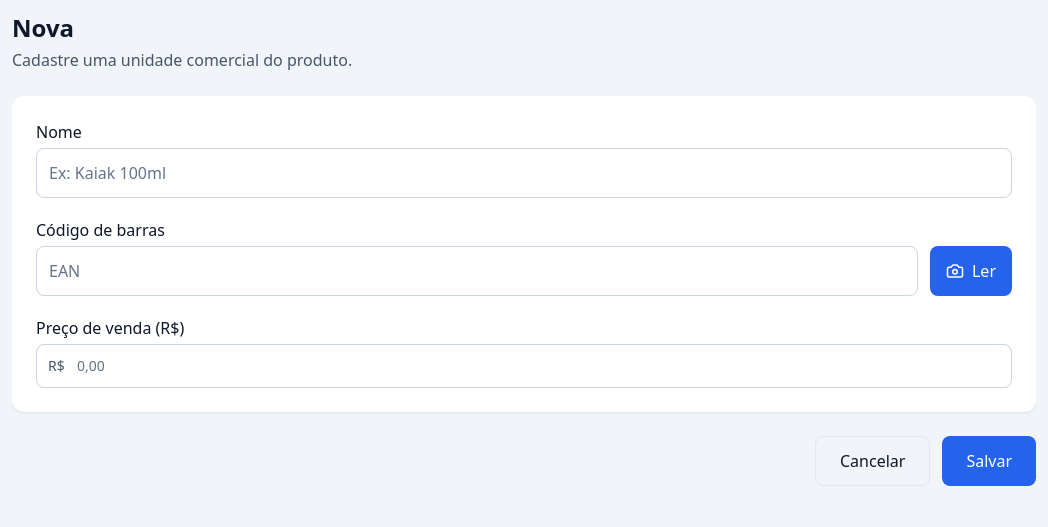
VariantForm › sem a permissão catalog.price (VENDEDOR) › criação: o preço é obrigatório
Type "Kaiak" into the field with placeholder "Ex: Kaiak 100ml". click: (524, 173)
box: left=36, top=148, right=1012, bottom=198
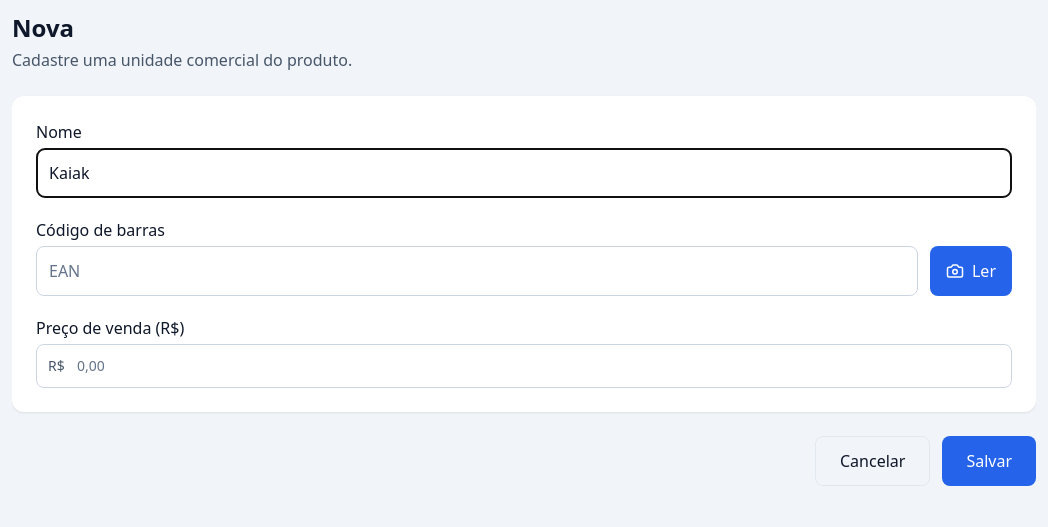
Click the button "Salvar". click: (989, 461)
box: left=942, top=436, right=1036, bottom=486
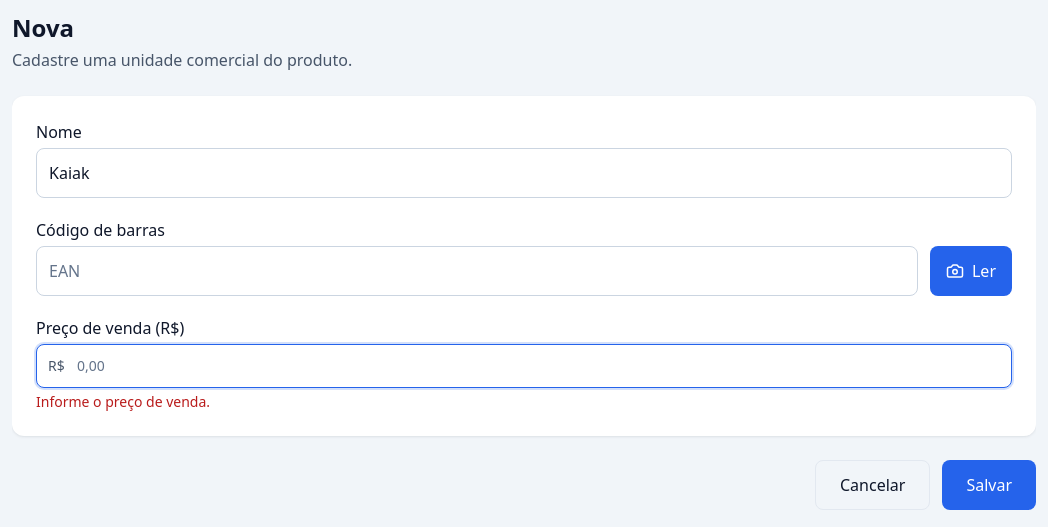
Result: the text "Informe o preço de venda." is shown at left=36, top=392, right=210, bottom=411
